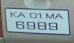0: (8, 10, 17, 18), (28, 11, 37, 18)
1: (35, 11, 42, 18)
6: (14, 18, 24, 29)
8: (36, 19, 47, 30)
9: (46, 19, 58, 31), (24, 19, 35, 30)
A: (16, 10, 25, 18), (54, 11, 63, 19)
M: (44, 11, 54, 19)
